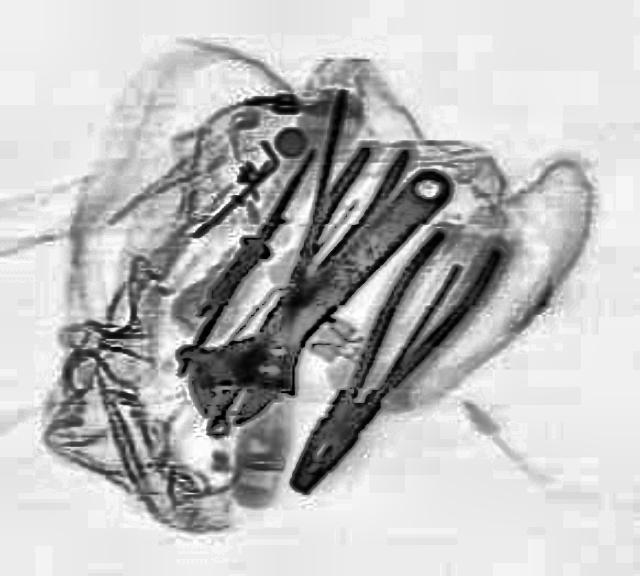Pliers: (264, 218, 503, 508)
Wrench: (161, 142, 481, 442)
